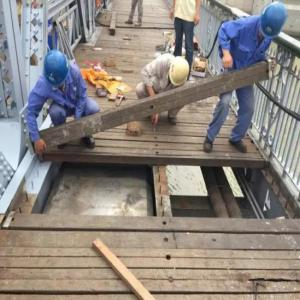blue: (44, 51, 71, 92), (261, 2, 288, 43)
white: (168, 54, 191, 89)
